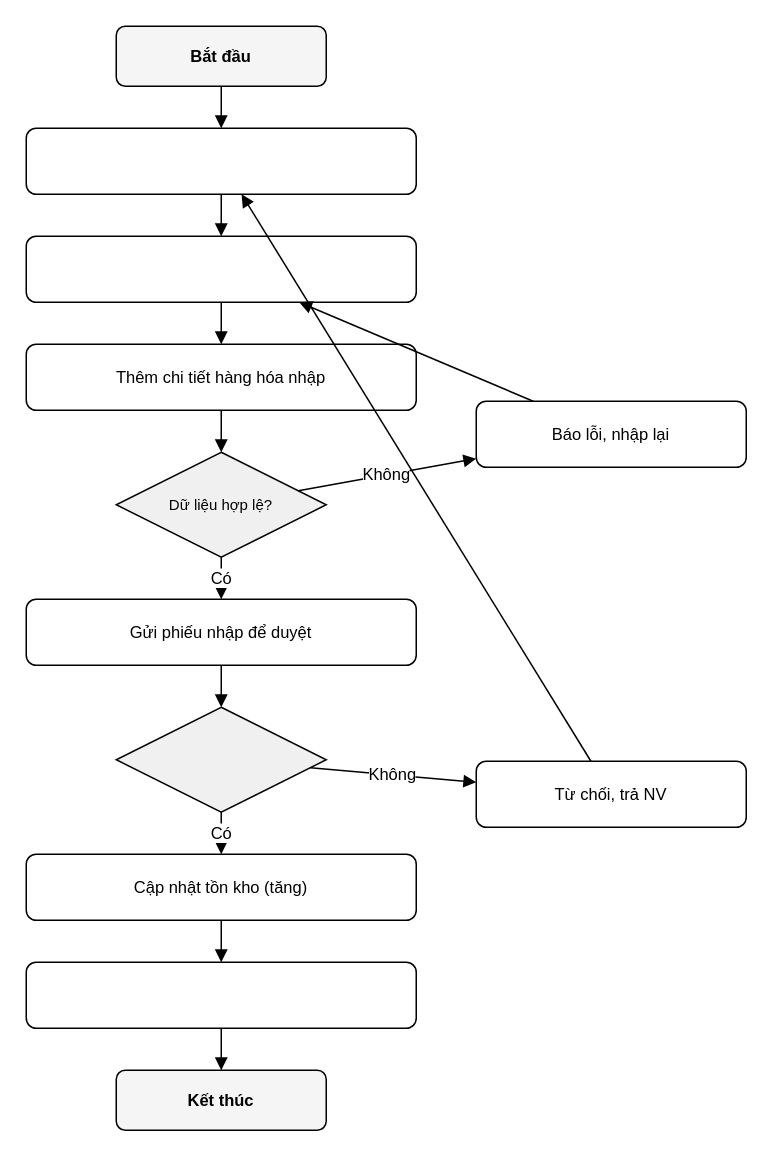
The diagram is 773 pixels wide and 1157 high, and some of its shapes have lost their labels. The centre of each missing label's shape, as x and y in pixels:
"In / lưu phiếu nhập" goes at (220,994).
"Nhập NCC, kho, ngày nhập" goes at (220,268).
"NV lập phiếu nhập kho" goes at (220,160).
"Quản lý duyệt?" goes at (220,759).
